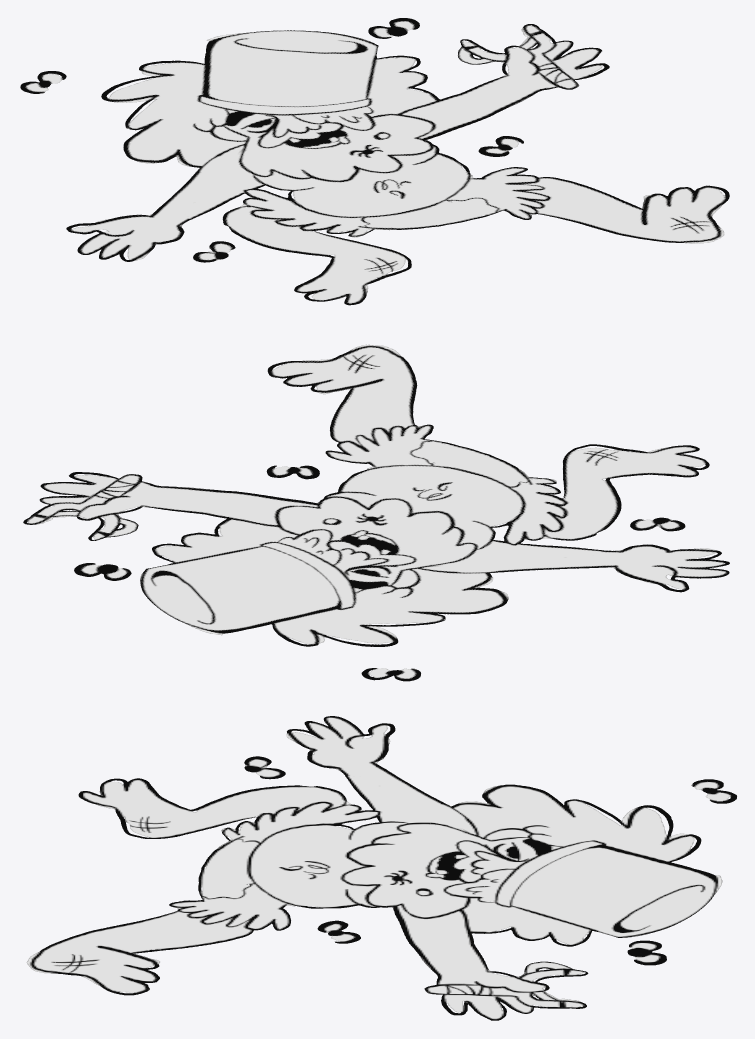
Rendered from Walking 2.fbx.
3 renders of one model, top to bottom at view 1: azimuth 30°, elevation 25°; view 2: azimuth 150°, elevation 25°; view 3: azimuth 270°, elevation 25°, orthographic. The views are drawn at different scales.
Visible parts, largest first — view 1: Curve.005; view 2: Curve.005; view 3: Curve.005.
Part boxes in pixels (x1=…): Curve.005: x1=20, y1=18, x2=729, y2=305; Curve.005: x1=23, y1=344, x2=729, y2=681; Curve.005: x1=26, y1=716, x2=736, y2=1020.
Size of the model in its own units: 92.38 by 0 by 90.82.
